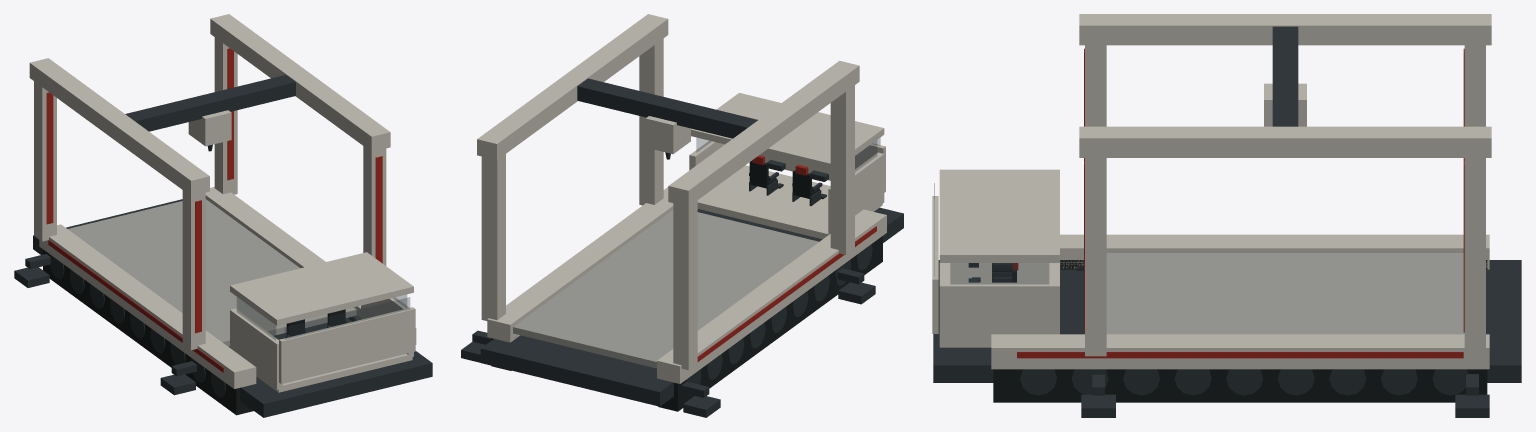
3 renders of one model, left to right at view 1: azimuth 30°, elevation 25°; view 2: azimuth 150°, elevation 25°; view 3: azimuth 270°, elevation 25°, orthographic. The views are drawn at different scales.
Visible parts, largest first — view 1: mobile-fabricator-painted, breakaway-0-painted, printer-gantry-painted, breakaway-1-painted, mobile-fabricator-glazing, printer-head-painted, stabilizer--1--5.7-painted, stabilizer--1-3-painted, crew-seating-batch-painted; view 2: mobile-fabricator-painted, breakaway-0-painted, breakaway-1-painted, printer-gantry-painted, crew-seating-batch-painted, printer-head-painted, stabilizer--1--5.7-painted, stabilizer--1-3-painted, stabilizer-1--5.7-painted, mobile-fabricator-glazing; view 3: mobile-fabricator-painted, breakaway-1-painted, breakaway-0-painted, printer-gantry-painted, mobile-fabricator-glazing, stabilizer-1--5.7-painted, stabilizer-1-3-painted, printer-head-painted, crew-seating-batch-painted.
Boxes of the visible parts, left/top/right/bottom form: mobile-fabricator-painted: left=29, top=14, right=432, bottom=417; breakaway-0-painted: left=39, top=224, right=256, bottom=388; printer-gantry-painted: left=125, top=75, right=295, bottom=131; breakaway-1-painted: left=205, top=187, right=416, bottom=344; mobile-fabricator-glazing: left=237, top=295, right=409, bottom=339; printer-head-painted: left=188, top=110, right=231, bottom=151; stabilizer--1--5.7-painted: left=14, top=254, right=50, bottom=287; stabilizer--1-3-painted: left=160, top=361, right=196, bottom=395; crew-seating-batch-painted: left=286, top=309, right=349, bottom=337; mobile-fabricator-painted: left=477, top=14, right=903, bottom=411; breakaway-0-painted: left=657, top=209, right=886, bottom=383; breakaway-1-painted: left=487, top=187, right=673, bottom=342; printer-gantry-painted: left=577, top=78, right=757, bottom=138; crew-seating-batch-painted: left=749, top=155, right=828, bottom=205; printer-head-painted: left=645, top=116, right=690, bottom=159; stabilizer--1--5.7-painted: left=681, top=382, right=720, bottom=417; stabilizer--1-3-painted: left=837, top=268, right=875, bottom=304; stabilizer-1--5.7-painted: left=461, top=330, right=491, bottom=362; mobile-fabricator-glazing: left=696, top=138, right=880, bottom=171; mobile-fabricator-painted: left=932, top=14, right=1521, bottom=402; breakaway-1-painted: left=991, top=334, right=1489, bottom=369; breakaway-0-painted: left=1060, top=234, right=1489, bottom=269; printer-gantry-painted: left=1272, top=26, right=1298, bottom=126; mobile-fabricator-glazing: left=934, top=183, right=1048, bottom=284; stabilizer-1--5.7-painted: left=1455, top=374, right=1489, bottom=417; stabilizer-1-3-painted: left=1081, top=374, right=1115, bottom=417; printer-head-painted: left=1264, top=83, right=1306, bottom=126; crew-seating-batch-painted: left=968, top=263, right=1018, bottom=282.
Bounding box in the file's own units: 42.68 × 37.45 × 73.68.
